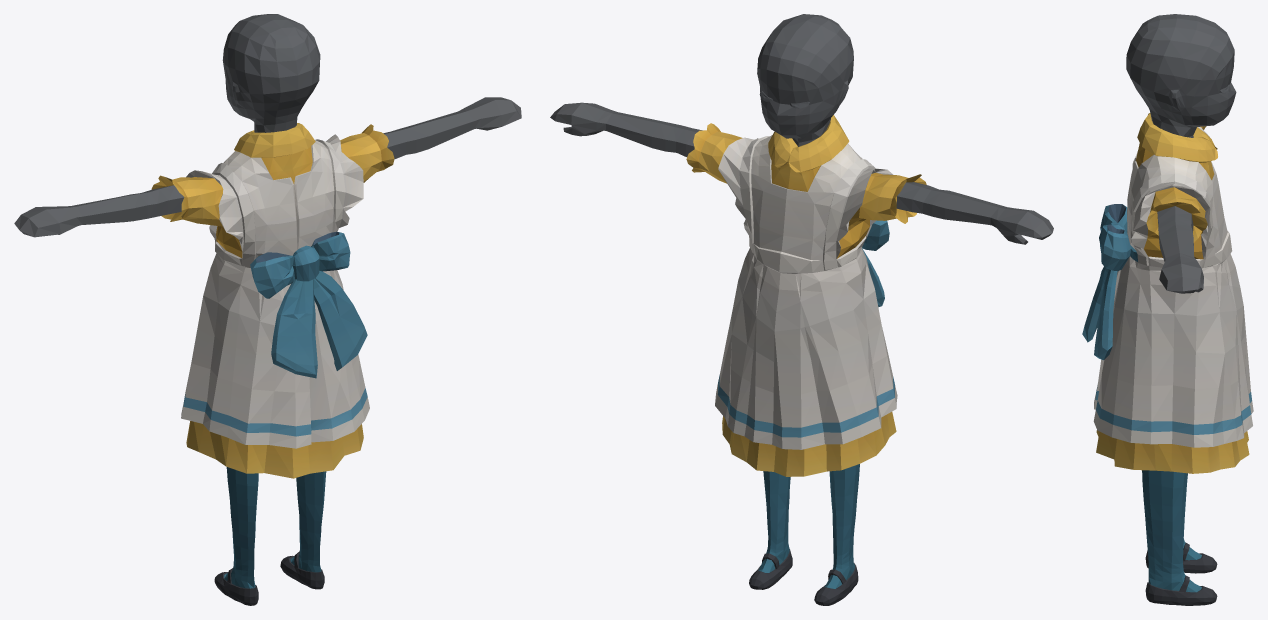
File: CharSkyKid_Body_YellowPinafore.glb
3 renders of one model, left to right at view 1: azimuth 30°, elevation 25°; view 2: azimuth 150°, elevation 25°; view 3: azimuth 270°, elevation 25°, orthographic.
Parts seen in each view (by area): view 1: CharSkyKid_Body_YellowPinafore; view 2: CharSkyKid_Body_YellowPinafore; view 3: CharSkyKid_Body_YellowPinafore.
Part boxes in pixels (x1,y1,x2,y2): CharSkyKid_Body_YellowPinafore: [14, 14, 521, 605]; CharSkyKid_Body_YellowPinafore: [550, 14, 1053, 605]; CharSkyKid_Body_YellowPinafore: [1082, 14, 1253, 605].
Size of the model in its own units: 13.83 by 14.96 by 4.1.
Materials: 1 (1 with a texture image).
